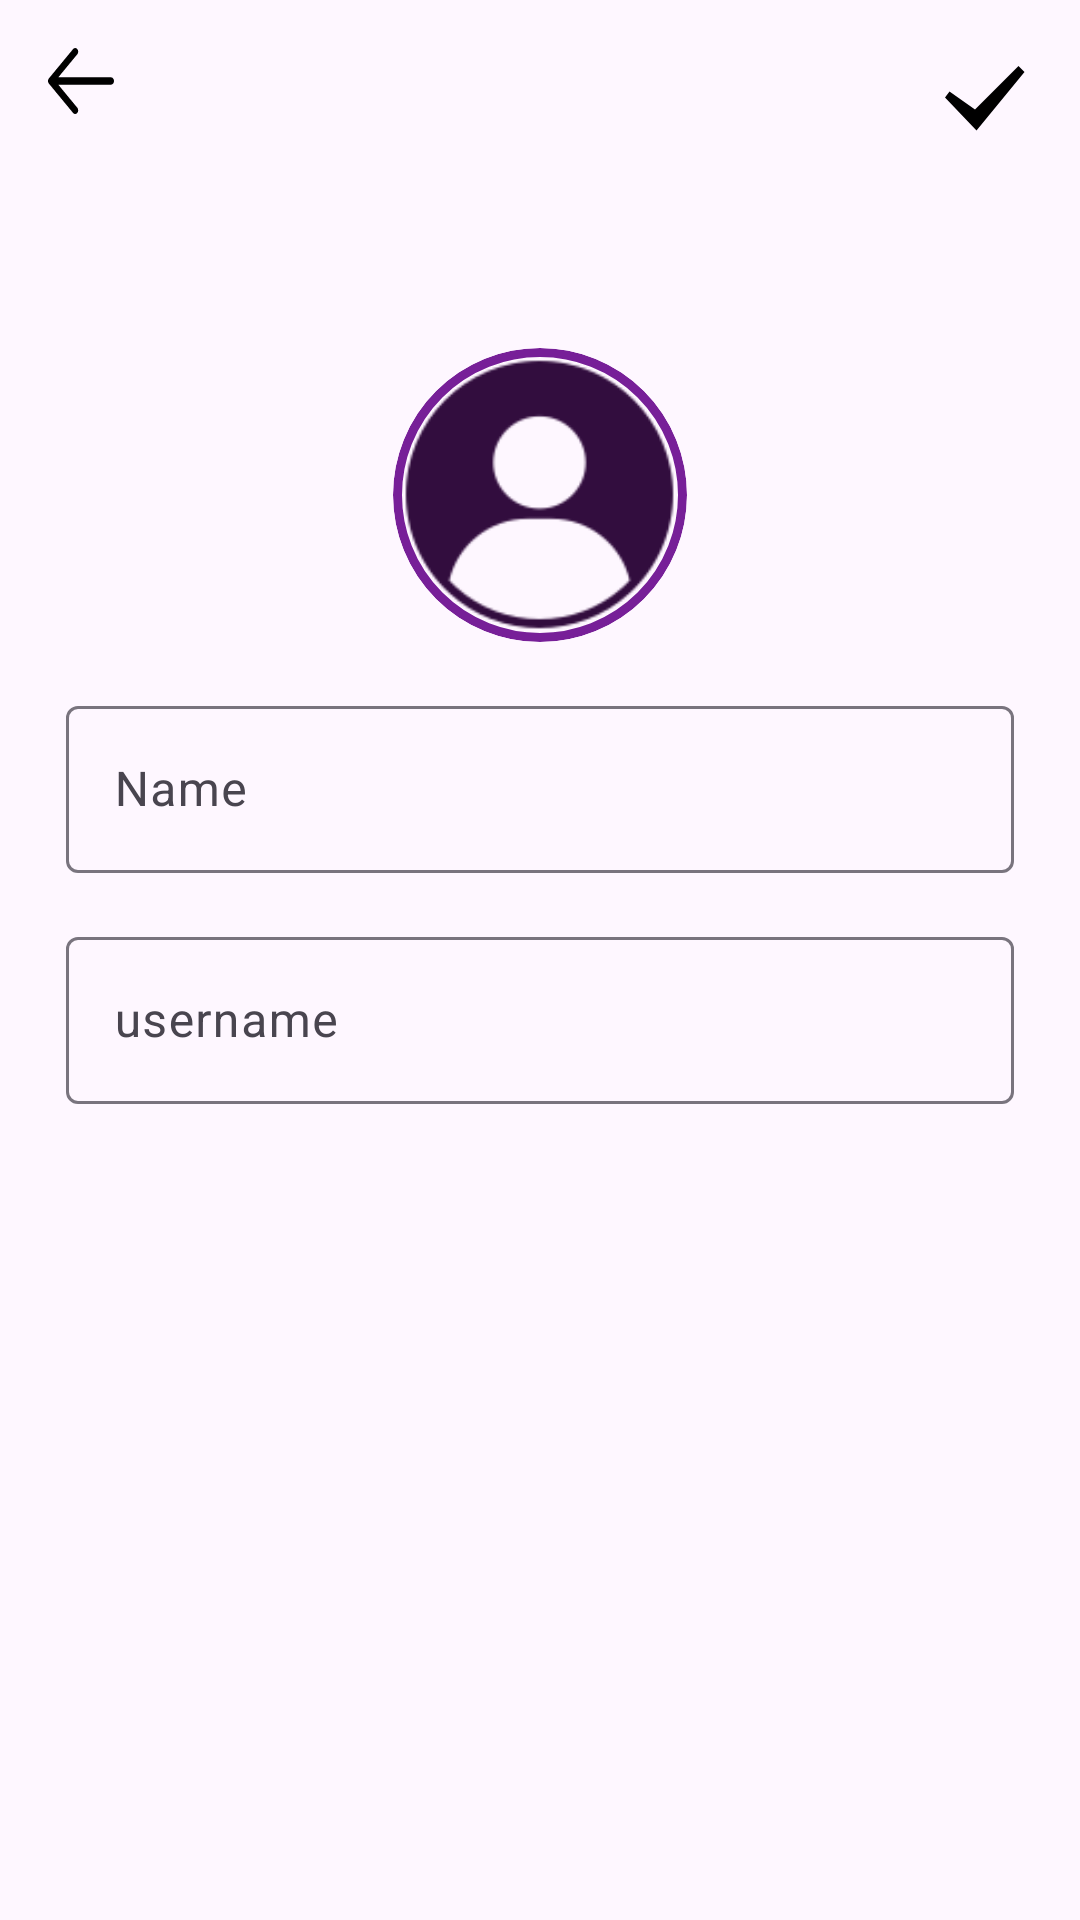

Point at icon controls on the screen. Image size 1080×1920, points as (x,y).
arrow left: (81,81)
check: (985,98)
person: (539,494)
